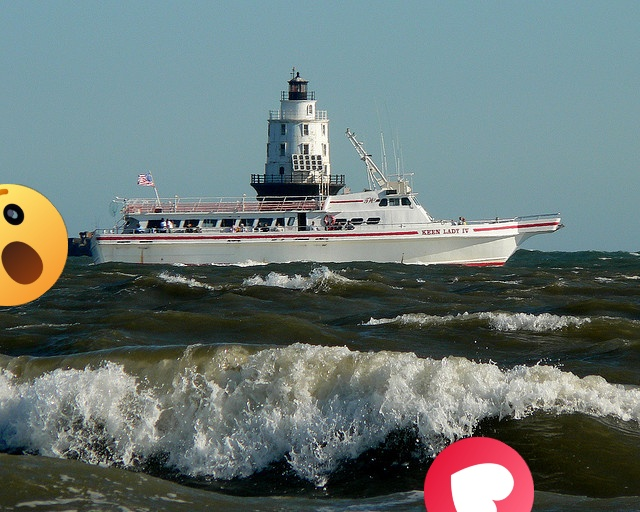love: (424, 437, 534, 512)
wow: (0, 184, 68, 306)
